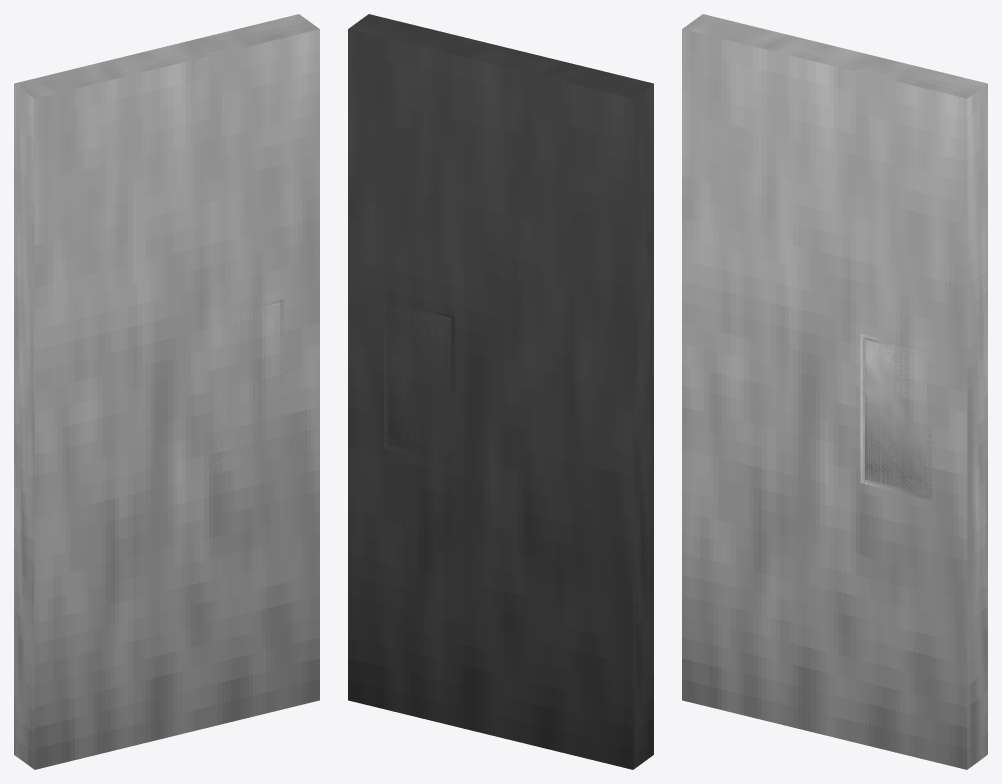
The model's file is Pgas_plant_sw3_do1Z.obj.
3 renders of one model, left to right at view 1: azimuth 30°, elevation 25°; view 2: azimuth 150°, elevation 25°; view 3: azimuth 330°, elevation 25°, orthographic.
Size of the model in its own units: 700 by 1575 by 88.
2 materials, 2 textured.
